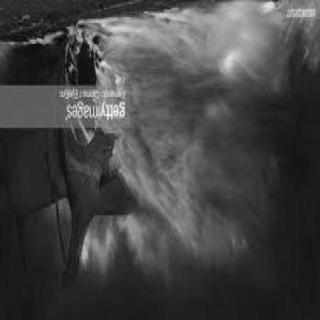Fire: (3, 6, 320, 320)
